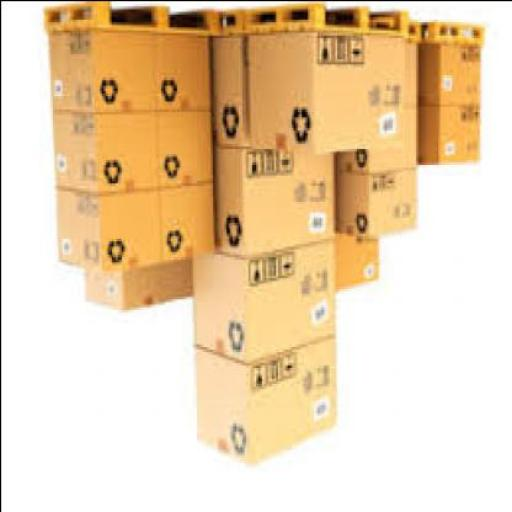cardboard: (249, 31, 409, 156), (198, 338, 336, 467), (193, 254, 336, 366), (218, 150, 336, 262), (332, 40, 418, 172), (51, 29, 155, 116), (59, 190, 160, 274), (58, 114, 164, 190), (140, 182, 222, 275), (88, 261, 194, 314), (336, 174, 417, 241), (148, 34, 214, 116), (156, 113, 216, 187), (418, 44, 482, 108), (214, 37, 249, 148), (419, 105, 481, 167), (332, 238, 379, 296)
